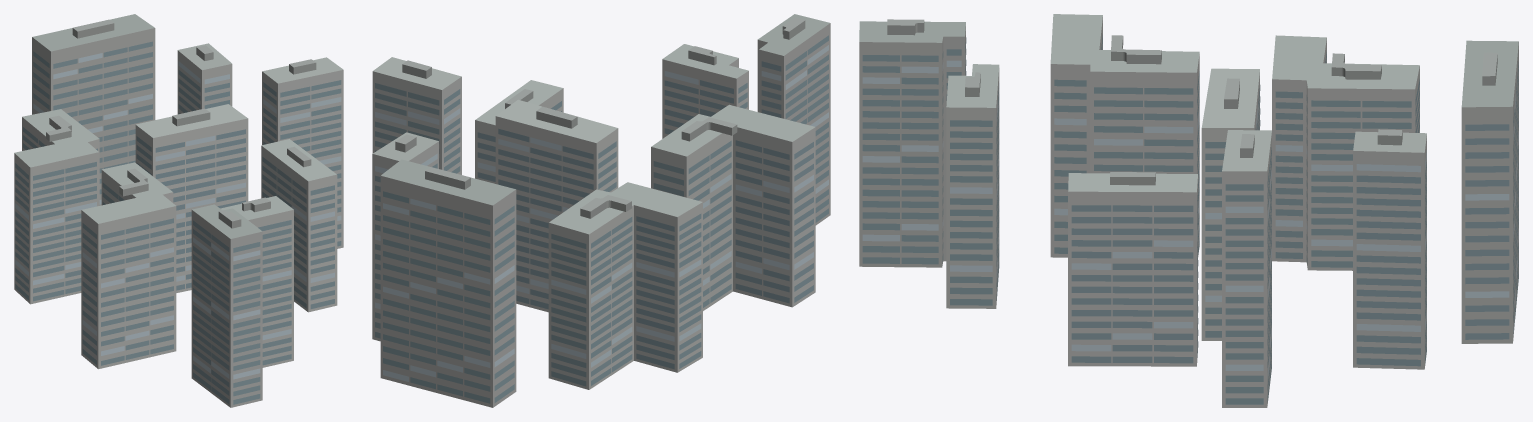
Rendered from apt-a15205305.glb.
The picture shows the model from 3 angles, left to right: view 1: azimuth 30°, elevation 25°; view 2: azimuth 150°, elevation 25°; view 3: azimuth 270°, elevation 25°; orthographic projection. The views are drawn at different scales.
Parts seen in each view (by area): view 1: apt-a15205305; view 2: apt-a15205305; view 3: apt-a15205305.
Part boxes in pixels (x1,y1,x2,y2): apt-a15205305: (14, 14, 343, 407); apt-a15205305: (372, 14, 830, 407); apt-a15205305: (859, 14, 1518, 407).
Size of the model in its own units: 108 by 62 by 151.
